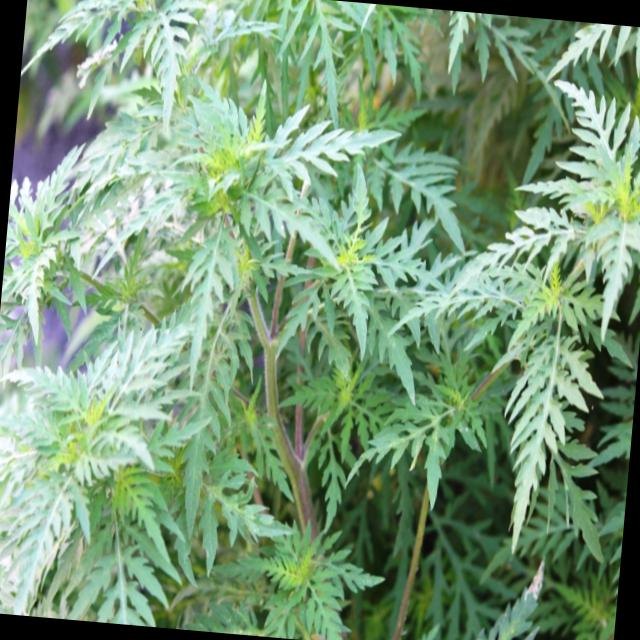ambrosia: (120, 58, 360, 326), (474, 120, 640, 458), (0, 311, 205, 579)
